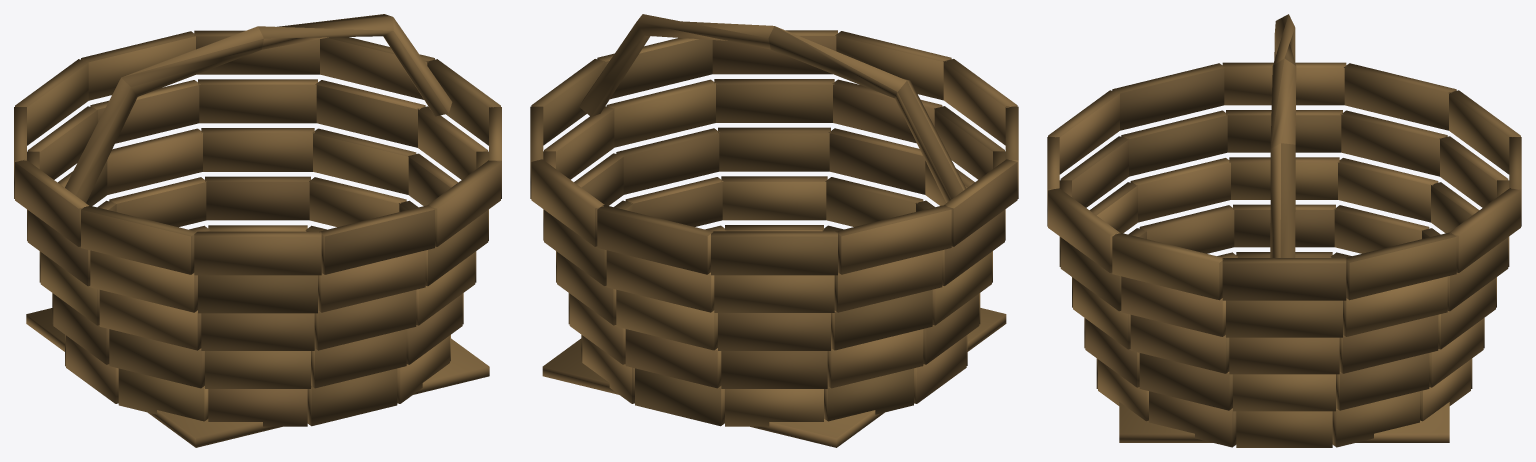
The model's file is cesta.glb.
3 views of the same model, side by side, from view 1: azimuth 30°, elevation 25°; view 2: azimuth 150°, elevation 25°; view 3: azimuth 270°, elevation 25° (orthographic). The views are drawn at different scales.
Visible parts, largest first — view 1: cesta; view 2: cesta; view 3: cesta.
Boxes of the visible parts, x1=… form: cesta: x1=14, y1=14, x2=501, y2=447; cesta: x1=530, y1=14, x2=1018, y2=447; cesta: x1=1047, y1=14, x2=1521, y2=447.
Bounding box in the file's own units: 0.46 × 0.337 × 0.46.
